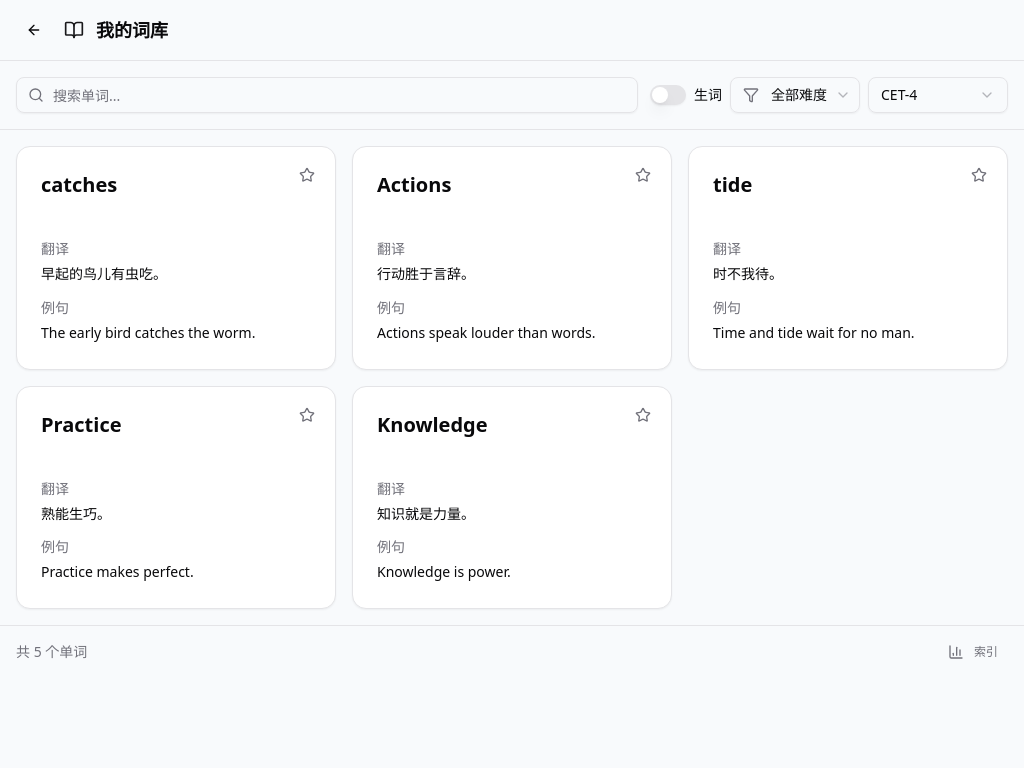
Test: DictionaryBrowser › Level filter › combines level filter with search
Expected: the text "catches" is shown, x1=41 y1=171 x2=117 y2=198
Note: First apply CET-4 filter
Step 1. Click the dropdown labelled "全部难度" → {"x": 795, "y": 95}, box x1=730 y1=77 x2=860 y2=113
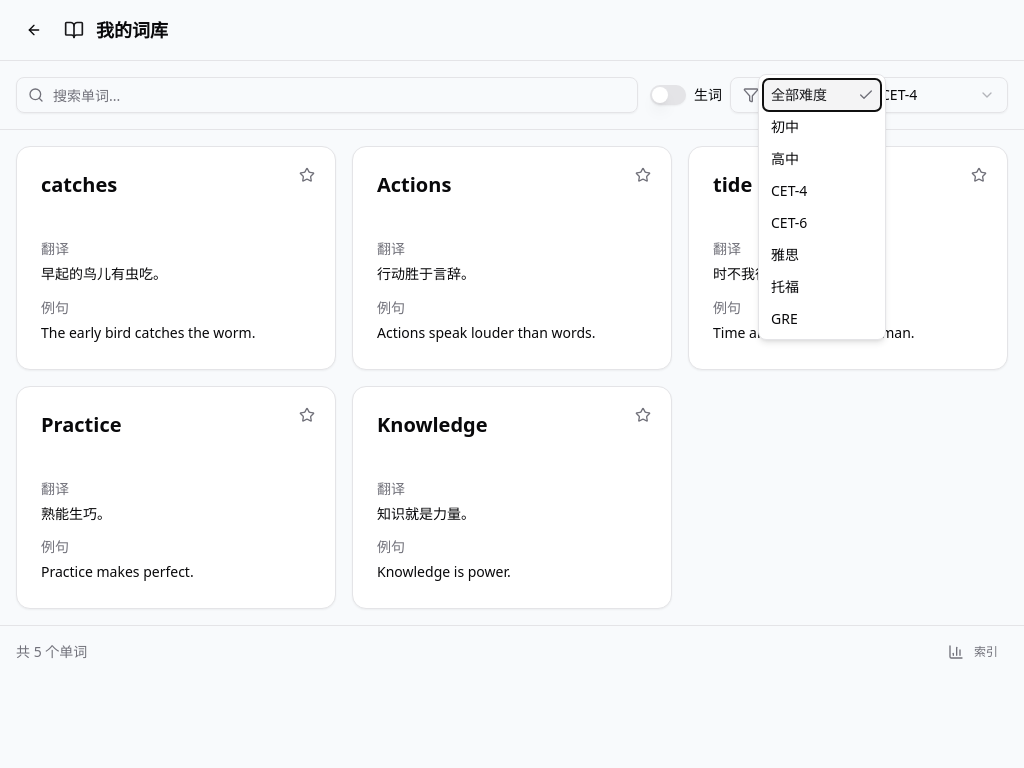
Now the option "CET-4" is shown
Step 2. Click the option "CET-4" → {"x": 789, "y": 190}, box x1=771 y1=181 x2=807 y2=200
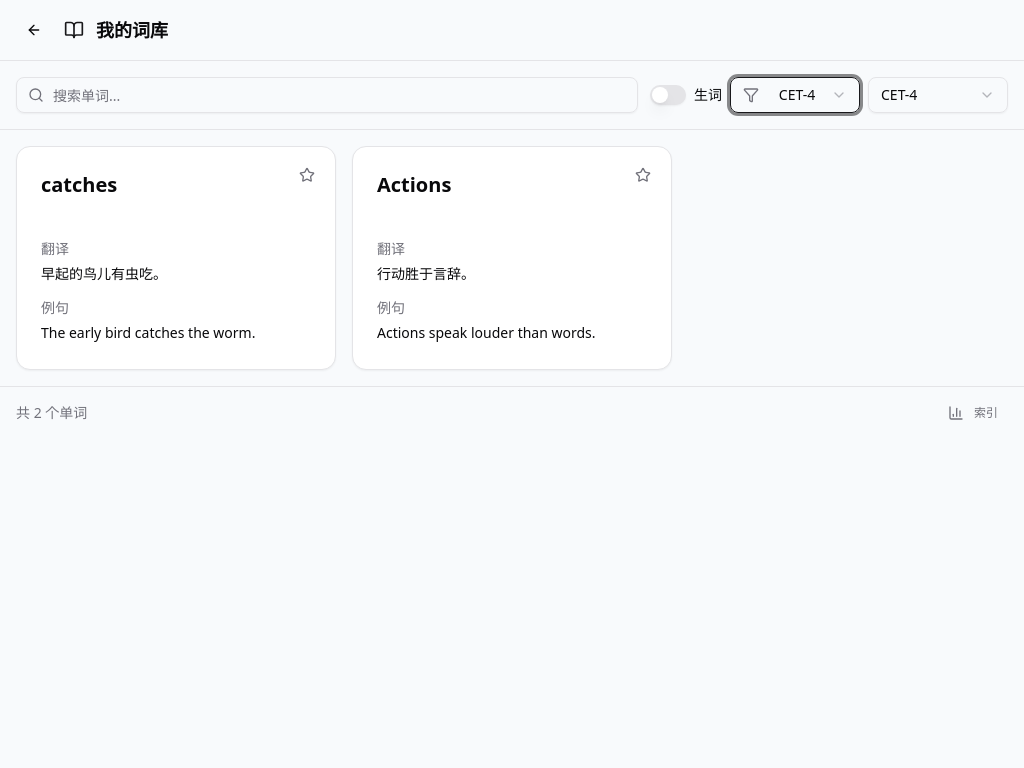
Expected: the text "catches" is shown, x1=41 y1=171 x2=117 y2=198
Expected: the text "Actions" is shown, x1=377 y1=171 x2=451 y2=198
Note: Then apply search
Step 3. Type "catches" into the field with placeholder "搜索单词..." → {"x": 327, "y": 95}, box x1=16 y1=77 x2=638 y2=113
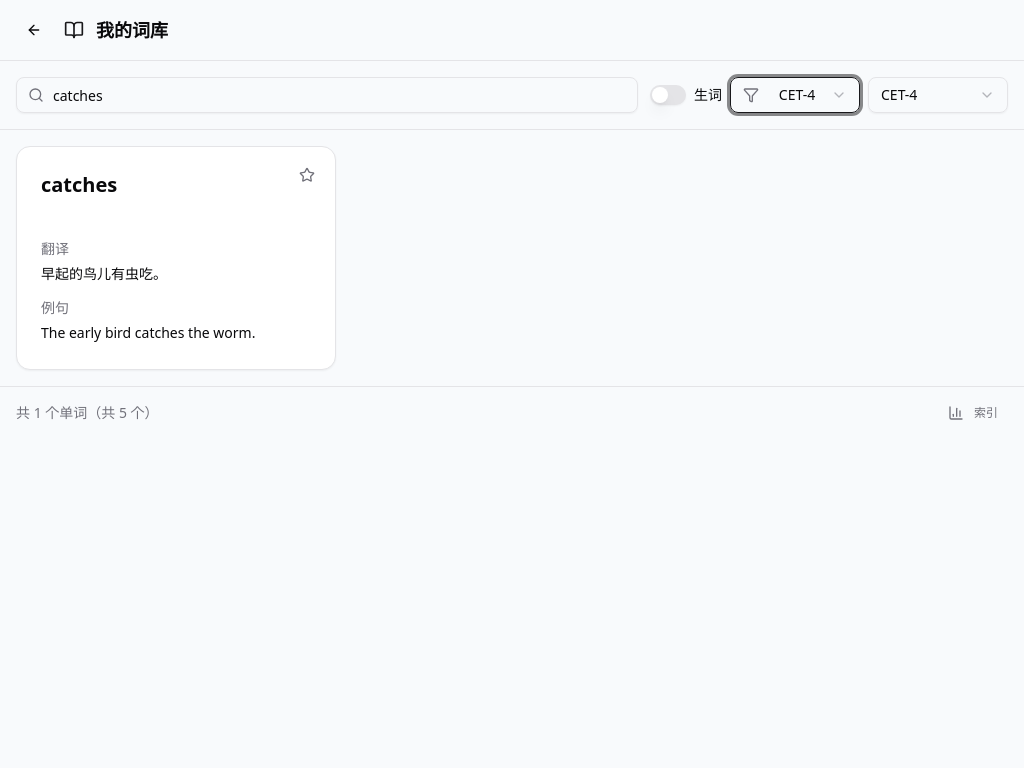
Expected: the text "catches" is shown, x1=41 y1=171 x2=117 y2=198
Now the text "Actions" is gone
Now the text "共 1 个单词（共 5 个）" is shown, box x1=16 y1=402 x2=159 y2=422
